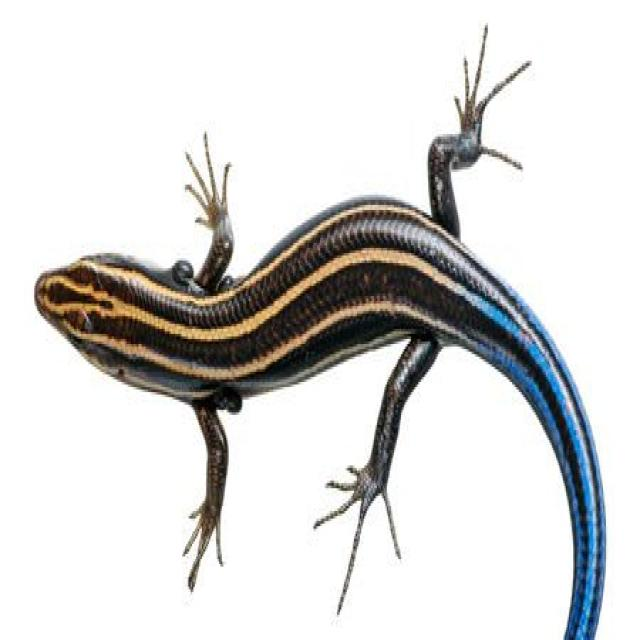Lizard: (34, 22, 606, 640)
